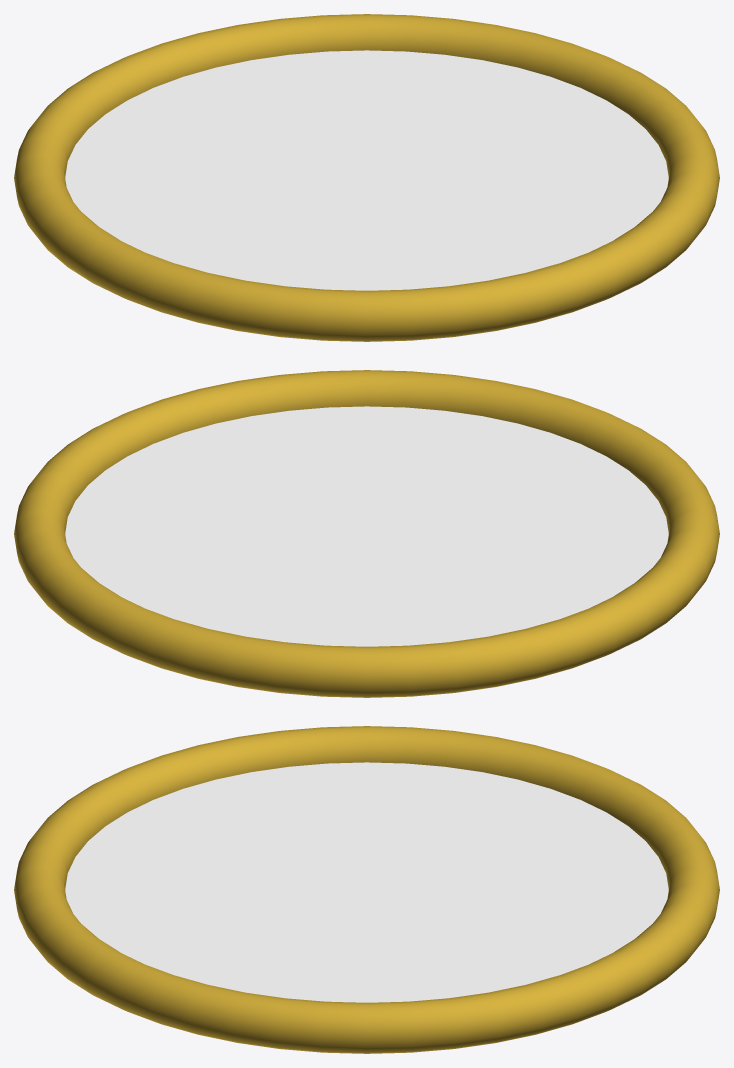
File: state-default.glb
3 views of the same model, one above another, from view 1: azimuth 30°, elevation 25°; view 2: azimuth 150°, elevation 25°; view 3: azimuth 270°, elevation 25° (orthographic).
Parts seen in each view (by area): view 1: assetPrim:2366af35eadcf8-19c73da0dcc:plate-body, assetPrim:2366af35eadcf8-19c73da0dcc:plate-gold-rim; view 2: assetPrim:2366af35eadcf8-19c73da0dcc:plate-body, assetPrim:2366af35eadcf8-19c73da0dcc:plate-gold-rim; view 3: assetPrim:2366af35eadcf8-19c73da0dcc:plate-body, assetPrim:2366af35eadcf8-19c73da0dcc:plate-gold-rim.
Boxes of the visible parts, x1,y1,x2,y2 form: assetPrim:2366af35eadcf8-19c73da0dcc:plate-body: (65, 50, 668, 290); assetPrim:2366af35eadcf8-19c73da0dcc:plate-gold-rim: (14, 14, 719, 341); assetPrim:2366af35eadcf8-19c73da0dcc:plate-body: (65, 406, 668, 646); assetPrim:2366af35eadcf8-19c73da0dcc:plate-gold-rim: (14, 370, 719, 697); assetPrim:2366af35eadcf8-19c73da0dcc:plate-body: (65, 762, 668, 1002); assetPrim:2366af35eadcf8-19c73da0dcc:plate-gold-rim: (14, 726, 719, 1053).
Bounding box in the file's own units: 0.276 × 0.03 × 0.276.
